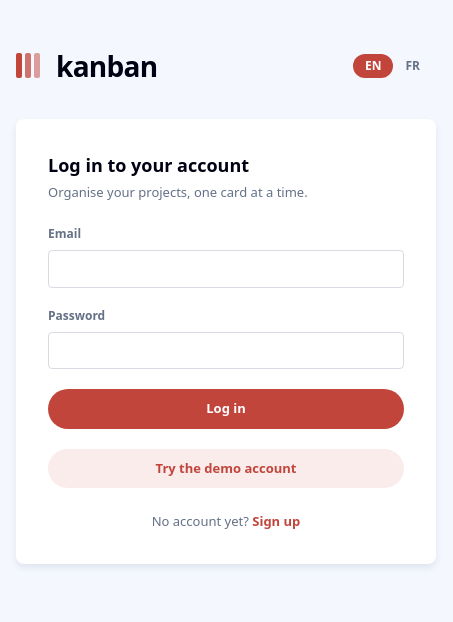
Test: login › explains wrong credentials and rate limiting
The image size is (453, 622).
Type "demo@kanban.dev" into the field labelled "Email". click: (226, 269)
box: [48, 250, 404, 288]
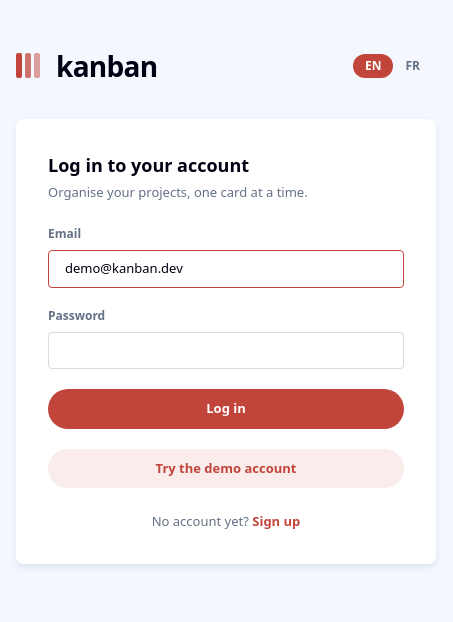
Type "wrong-password" into the password field labelled "Password". click: (226, 350)
box: [48, 332, 404, 369]
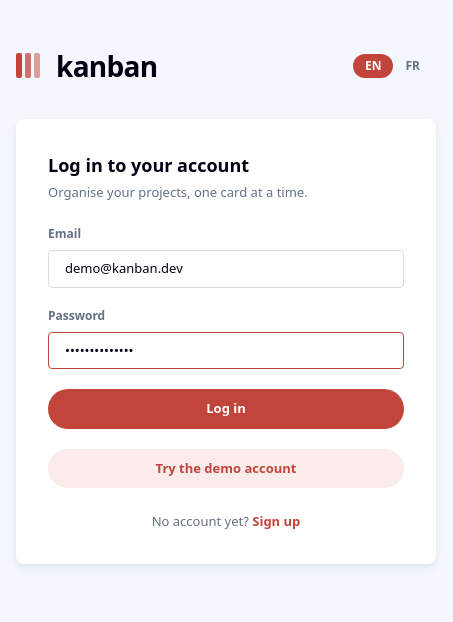
Click the button "Log in". click: (226, 409)
box: [48, 389, 404, 428]
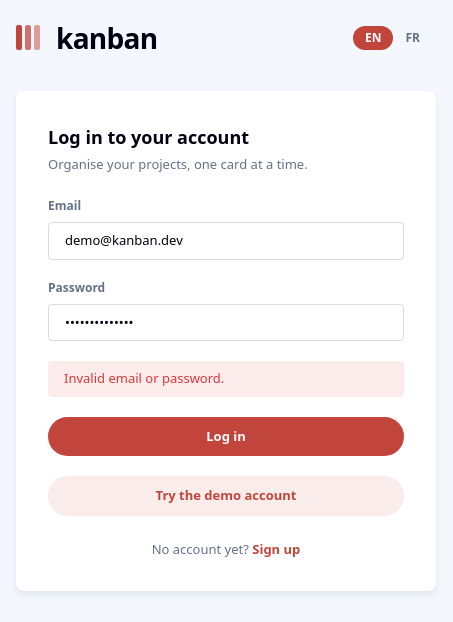
Result: the message reads "Invalid email or password." at [64, 369, 224, 387]
Replace the text in the field labelled "Email" with "blocked@kanban.dev". click: (226, 241)
box: [48, 222, 404, 260]
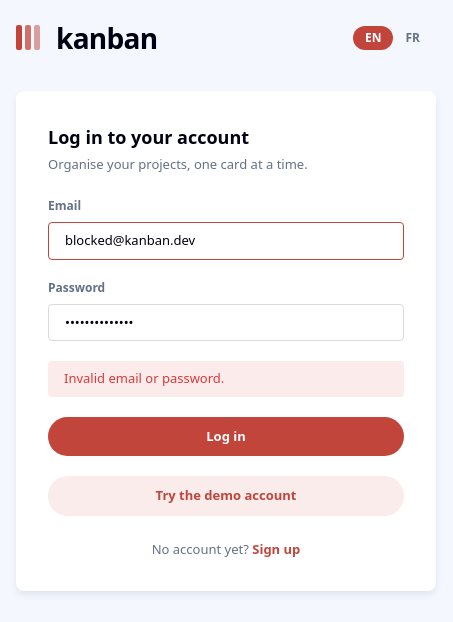
Click the button "Log in". click: (226, 437)
box: [48, 417, 404, 456]
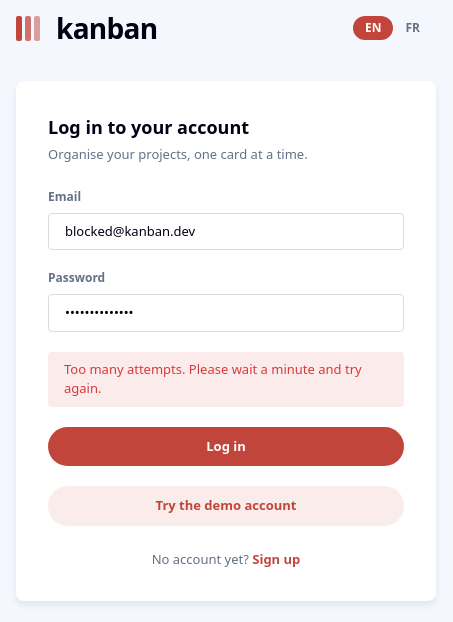
Result: the message shows "Too many attempts" at [64, 360, 362, 397]
